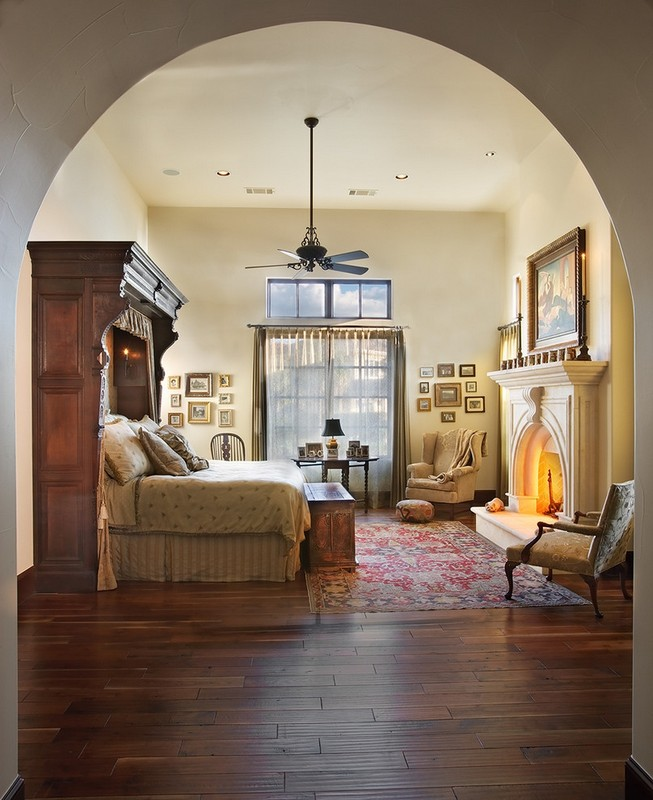bed: (100, 406, 309, 591)
chair: (511, 483, 634, 612)
lamp: (323, 416, 347, 459)
sofa: (404, 429, 483, 509)
stool: (303, 481, 359, 578)
table: (295, 452, 379, 515)
